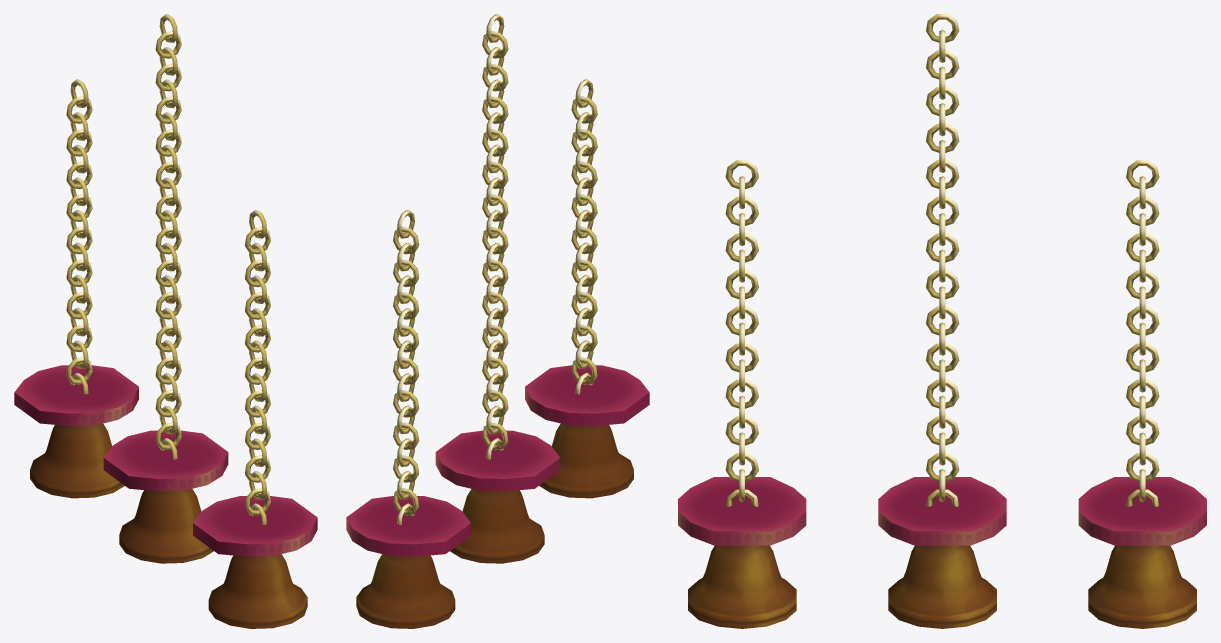
Rendered from TiensBellFrog_Bells.fbx.
3 views of the same model, side by side, from view 1: azimuth 30°, elevation 25°; view 2: azimuth 150°, elevation 25°; view 3: azimuth 270°, elevation 25° (orthographic). The views are drawn at different scales.
Parts seen in each view (by area): view 1: M_Bell, R_Bell, L_Bell; view 2: M_Bell, L_Bell, R_Bell; view 3: M_Bell, L_Bell, R_Bell.
Boxes of the visible parts, left/top/right/bottom form: M_Bell: left=103, top=14, right=228, bottom=563; R_Bell: left=193, top=210, right=317, bottom=628; L_Bell: left=14, top=79, right=138, bottom=498; M_Bell: left=435, top=14, right=560, bottom=563; L_Bell: left=346, top=210, right=470, bottom=628; R_Bell: left=525, top=79, right=649, bottom=498; M_Bell: left=878, top=14, right=1006, bottom=628; L_Bell: left=1078, top=160, right=1206, bottom=628; R_Bell: left=678, top=160, right=806, bottom=628.
Bounding box in the file's own units: 0.641 × 3.25 × 2.63.
